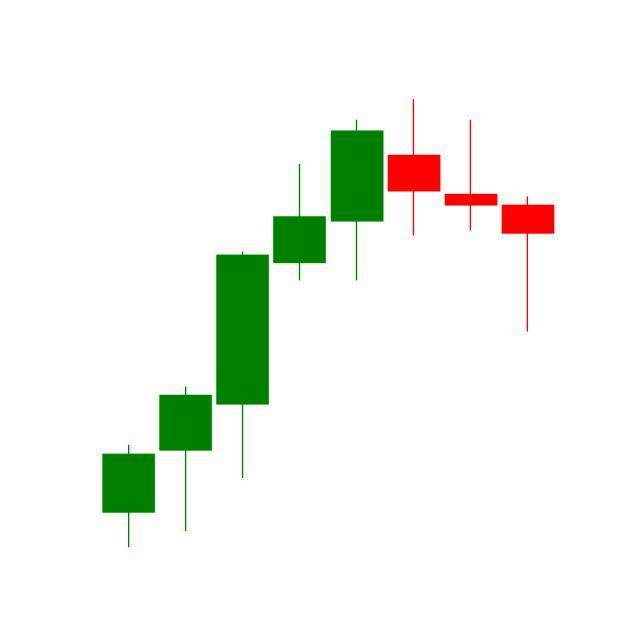Hikkake Pattern: (270, 99, 555, 336)
